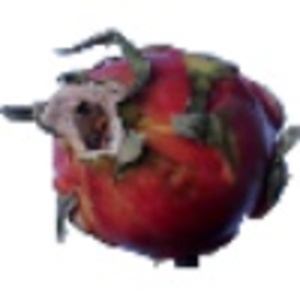pitaia: (1, 28, 300, 271)
